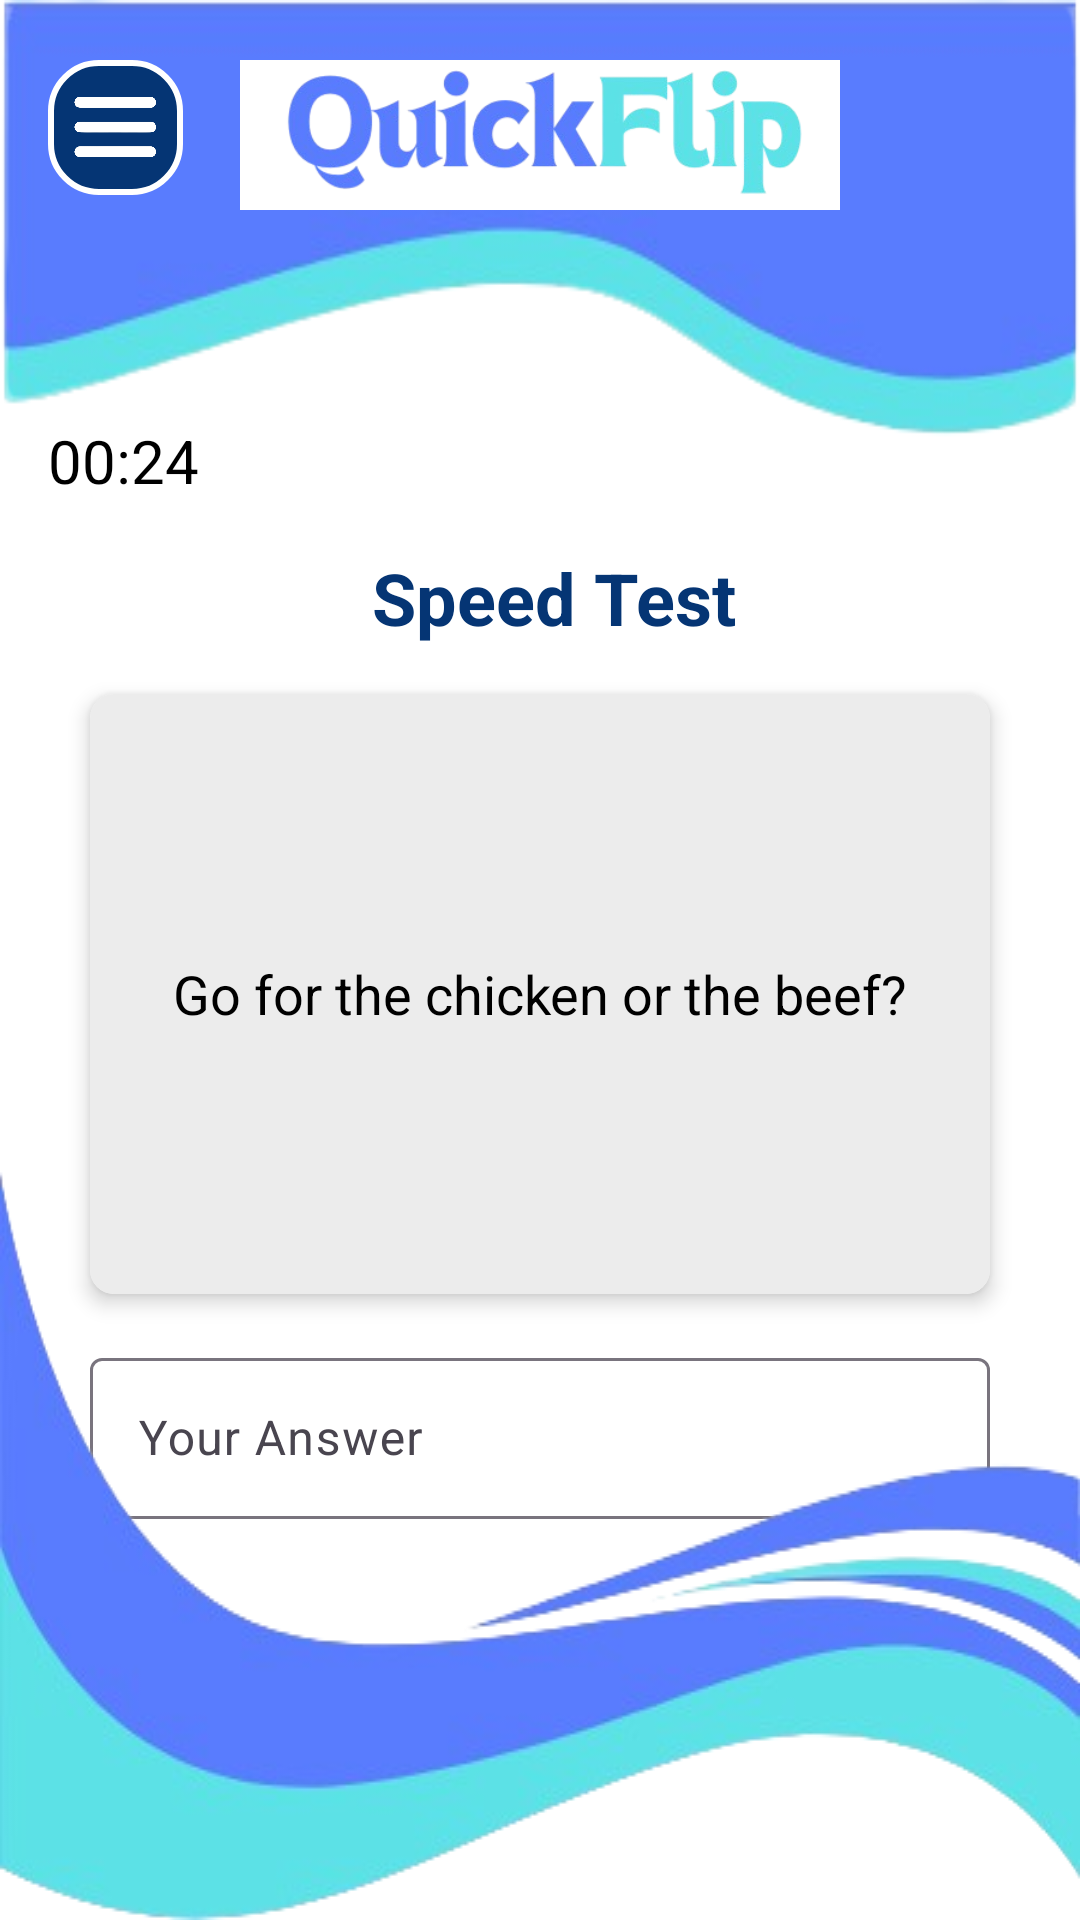

Named icons in this screenshot (1080 × 1920) and their bounding boxes, (x1, y1, x2, y2):
Drawer: (48, 60, 183, 195)
